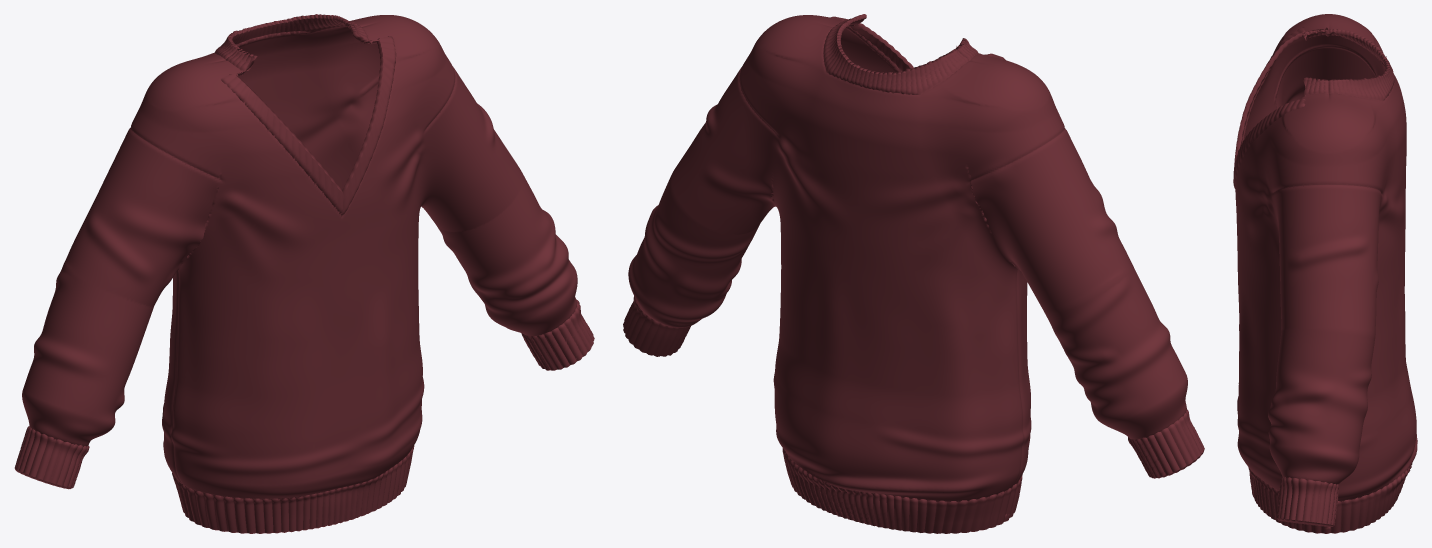
The model's file is 02_jersey_pico.glb.
3 renders of one model, left to right at view 1: azimuth 30°, elevation 25°; view 2: azimuth 150°, elevation 25°; view 3: azimuth 270°, elevation 25°, orthographic. The views are drawn at different scales.
Visible parts, largest first — view 1: body; view 2: body; view 3: body.
Part boxes in pixels (bbox=[...]): body: bbox=[14, 14, 594, 533]; body: bbox=[623, 14, 1204, 533]; body: bbox=[1233, 14, 1417, 533].
Bounding box in the file's own units: 0.9878 × 0.7651 × 0.2937.
